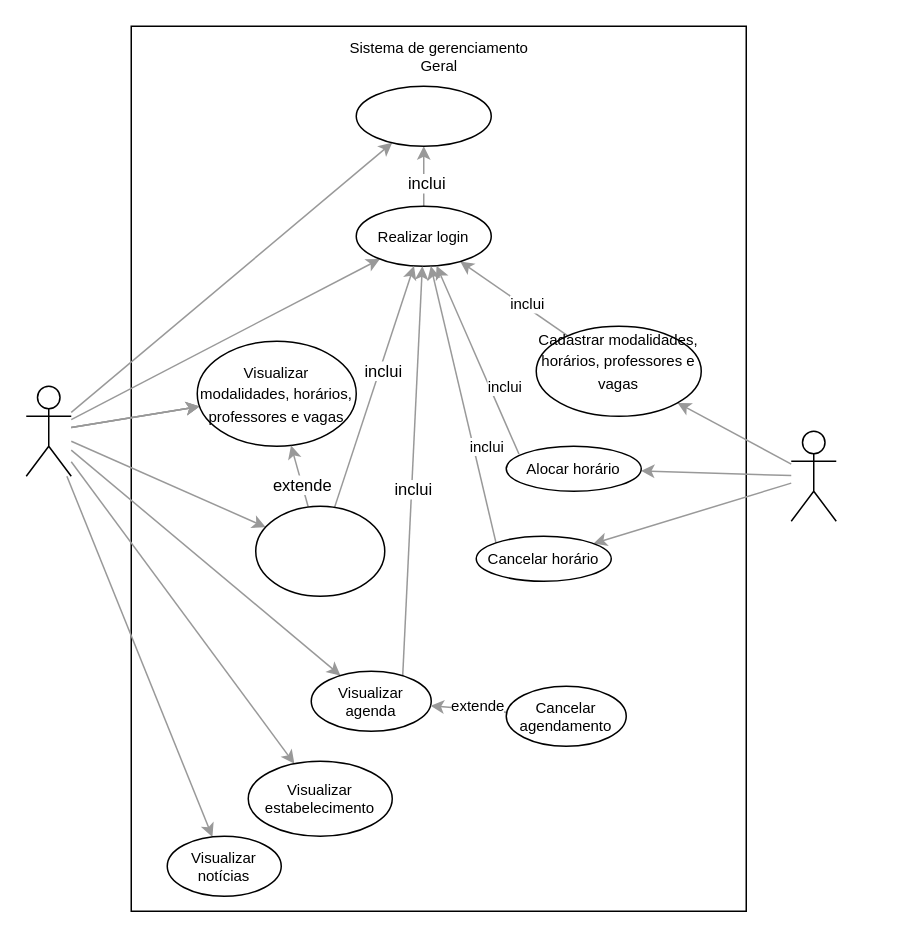
Image size: 897x938. Some labels were removed from this diagram. The box of each missing label's shape, as (x1, y1, x2, y2) in pixels:
Adiministrador: (790, 430, 836, 521)
Aluno: (25, 385, 71, 476)
Realizar registro: (355, 85, 491, 146)
Solicitar agendamento ou aula teste: (254, 505, 385, 596)
